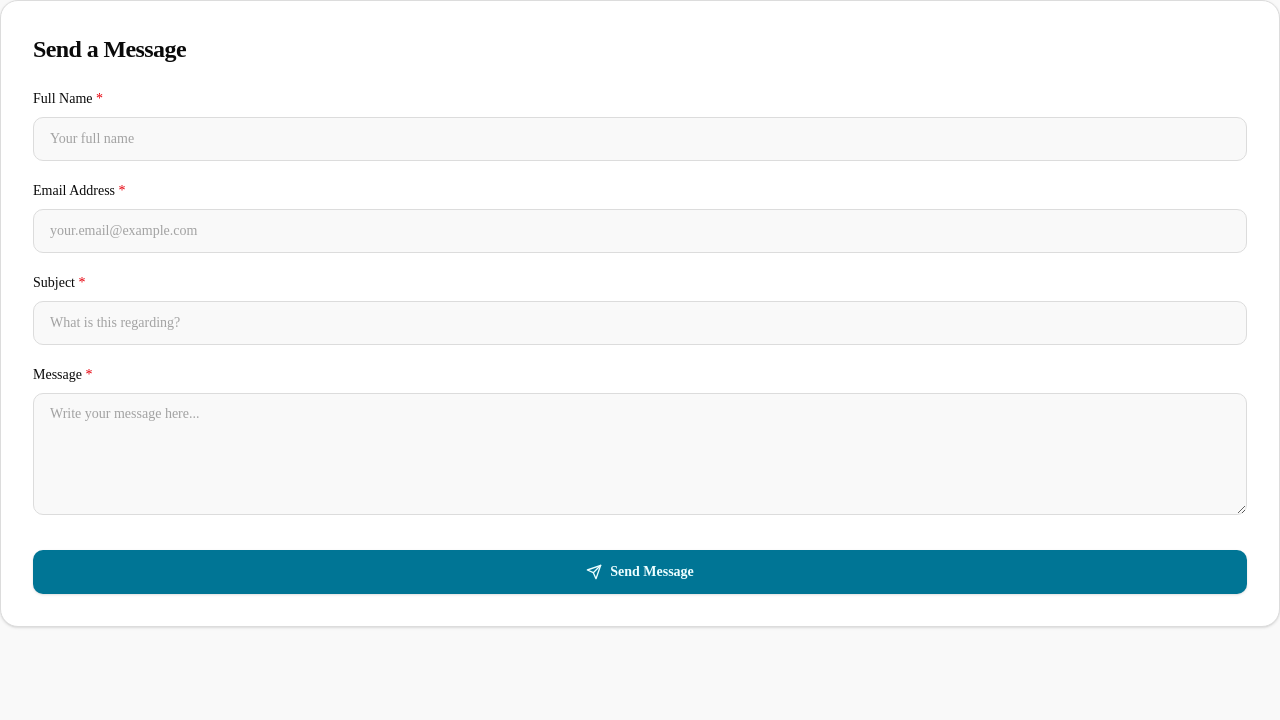
Test: ContactForm Component › shows validation errors when submitted empty
The image size is (1280, 720).
Click the button "Send Message" at {"x": 640, "y": 572}, box [33, 550, 1247, 594]
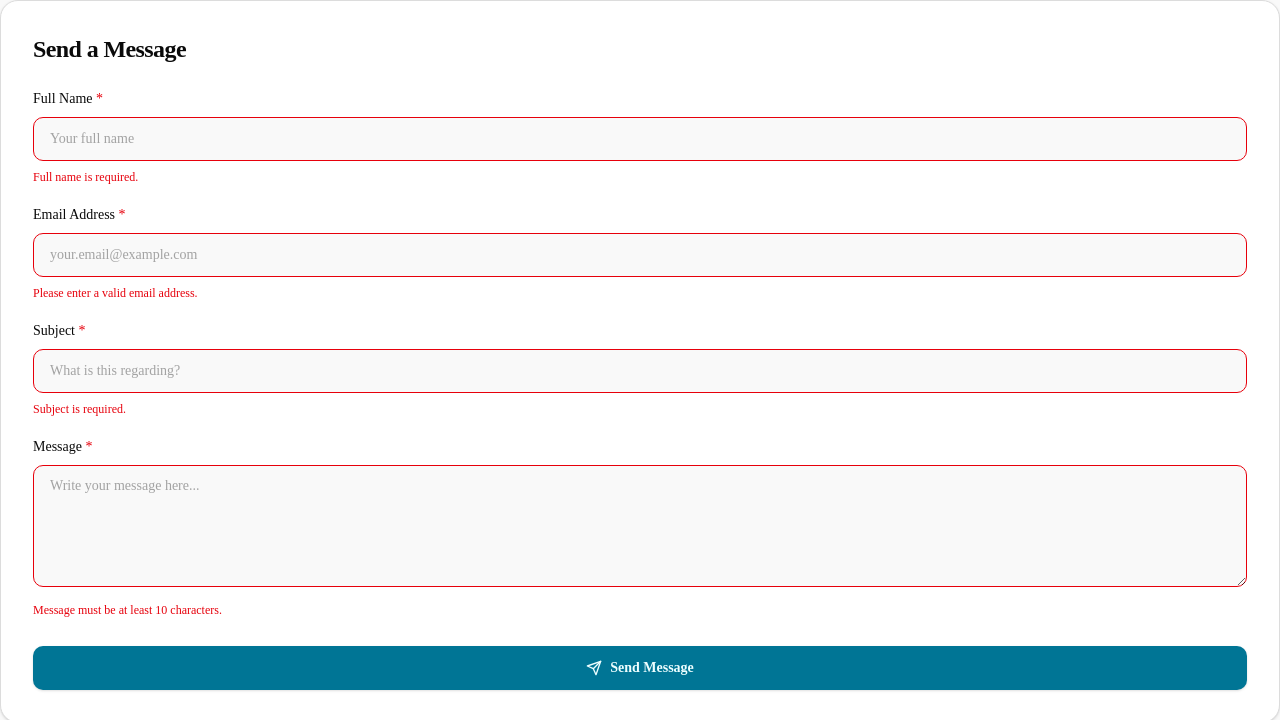
Now the text "Full name is required." is shown, box [33, 170, 138, 184]
Now the text "Please enter a valid email address." is shown, box [33, 286, 198, 300]
Now the text "Subject is required." is shown, box [33, 402, 126, 416]
